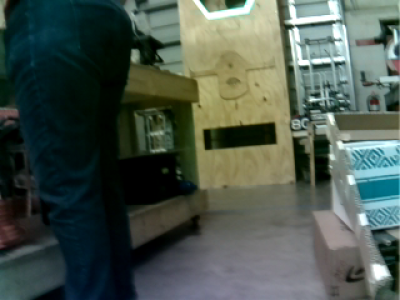target: (194, 1, 255, 21)
